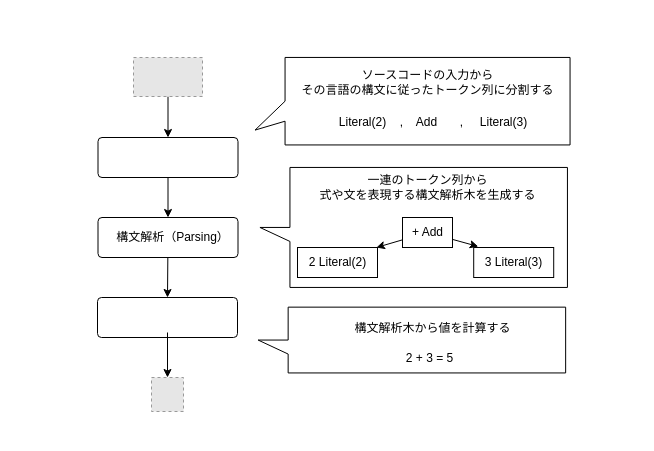
Image size: 654x451. Some labels were removed from this diagram. Grey dashed boxes stand in for pictures. Each missing label, with the centre of its shape:
字句解析（Scanning）: (x=167, y=157)
評価（Evaluate）: (x=167, y=317)
